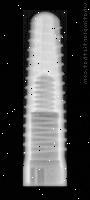Camlog: (23, 10, 67, 186)
